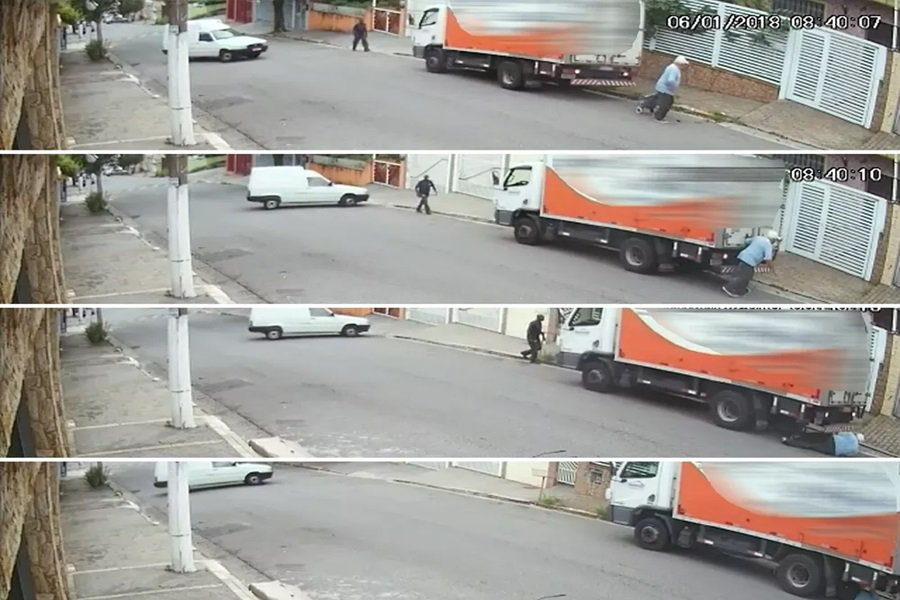Humano: (726, 230, 784, 303), (781, 421, 875, 456), (649, 46, 687, 131), (411, 172, 443, 221), (522, 311, 547, 366), (347, 13, 375, 58)
